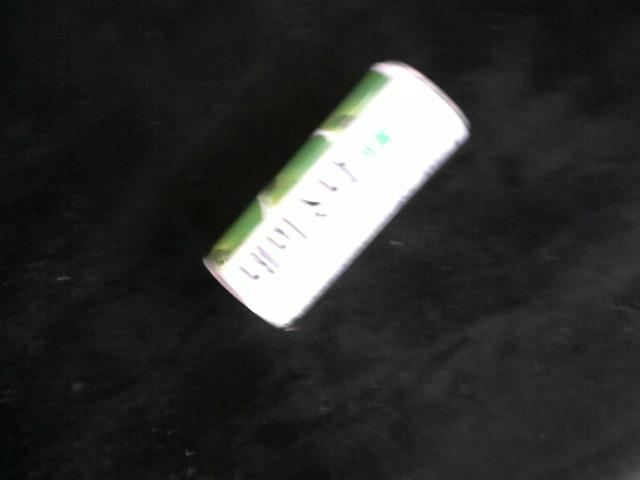can: (199, 59, 474, 331)
